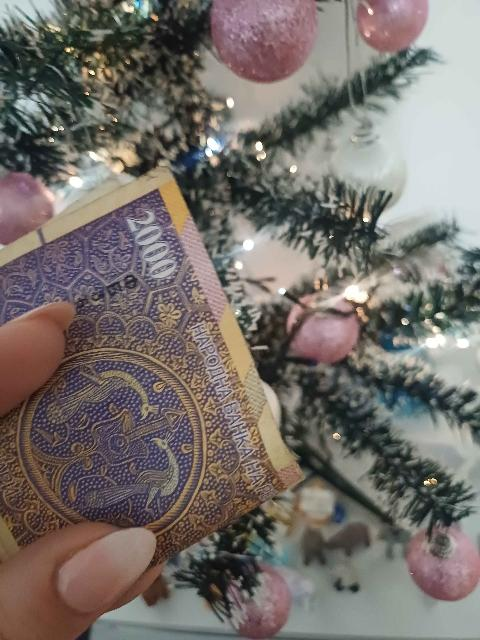2000_note: (0, 171, 300, 558)
